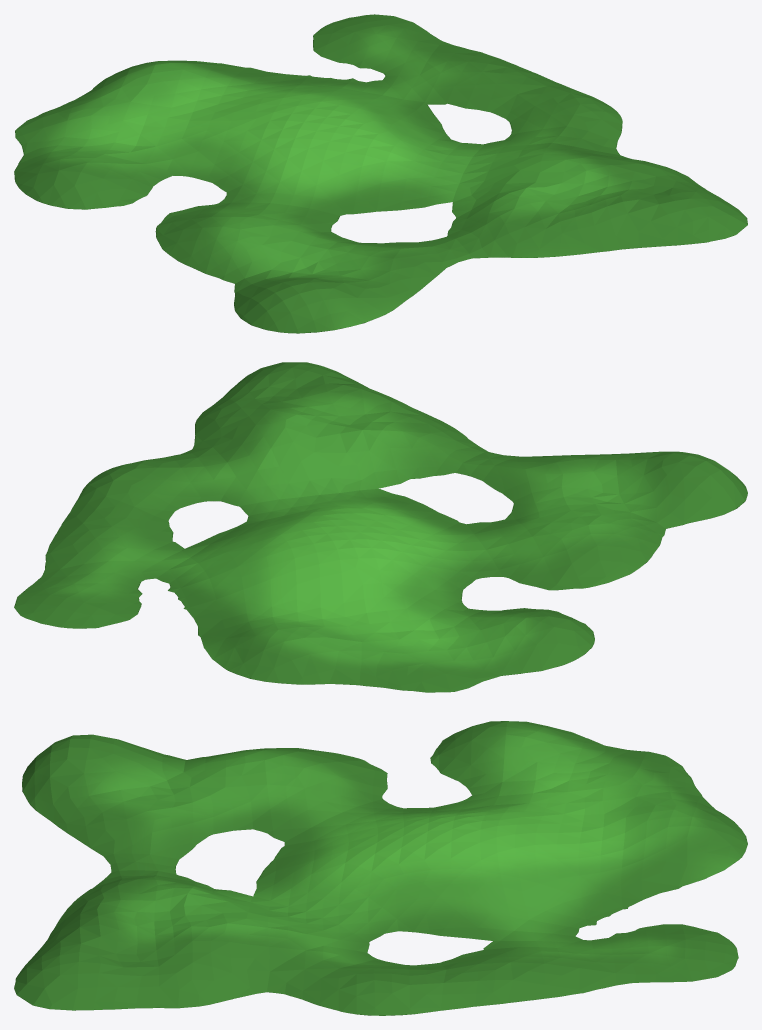
The model's file is slime.glb.
3 renders of one model, top to bottom at view 1: azimuth 30°, elevation 25°; view 2: azimuth 150°, elevation 25°; view 3: azimuth 270°, elevation 25°, orthographic. The views are drawn at different scales.
Visible parts, largest first — view 1: Object_2; view 2: Object_2; view 3: Object_2.
Part boxes in pixels (x1,y1,x2,y2): Object_2: (14, 14, 747, 333); Object_2: (14, 362, 747, 692); Object_2: (14, 721, 747, 1015).
Size of the model in its own units: 1.83 by 0.1016 by 1.94.
1 material, 1 textured.
